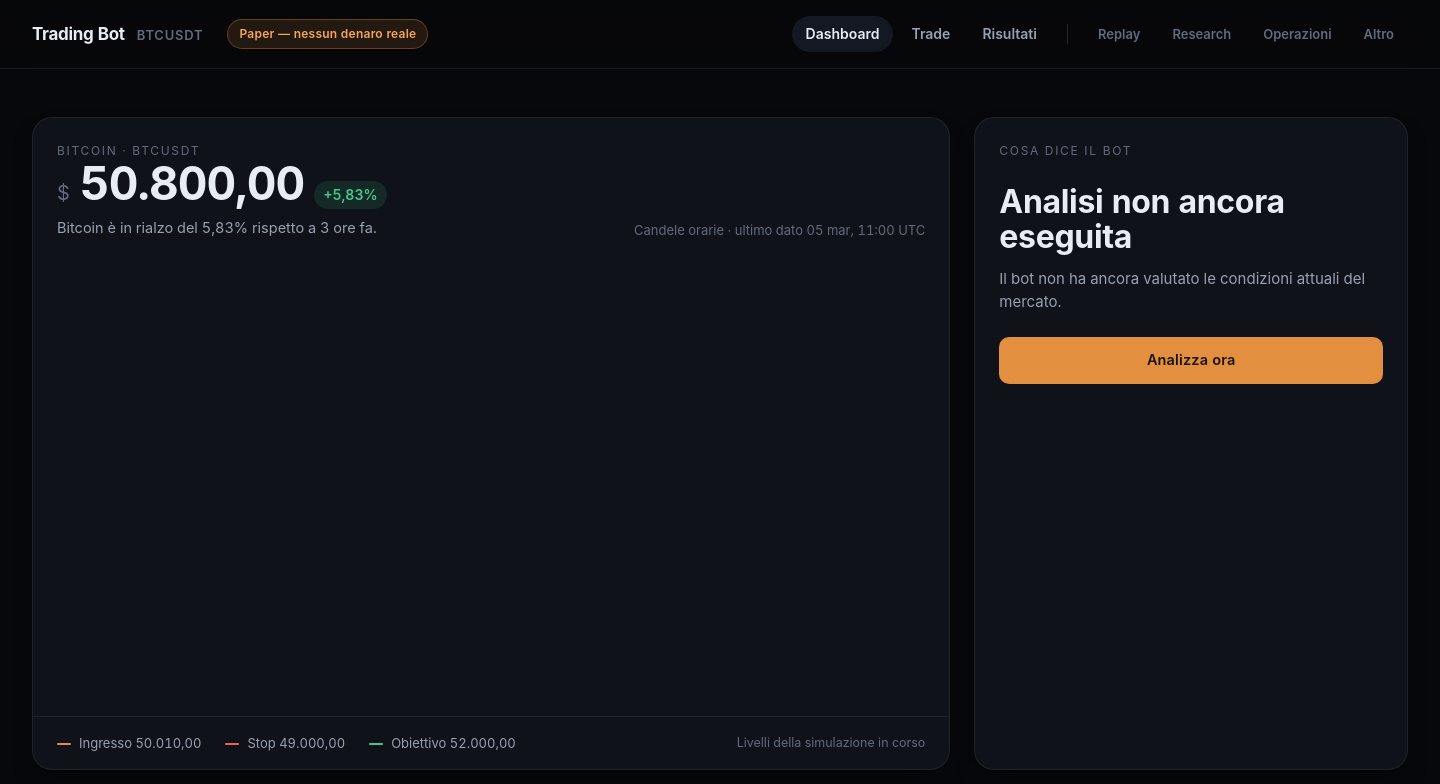
Scenario: simulazione › nasconde la simulazione e spiega il motivo quando una è già in corso
Expected: the text "Analisi non ancora eseguita" is shown, [999,182,1285,256]
Step 1. Click the button "Analizza ora" → {"x": 1191, "y": 360}, box [999,337,1383,384]
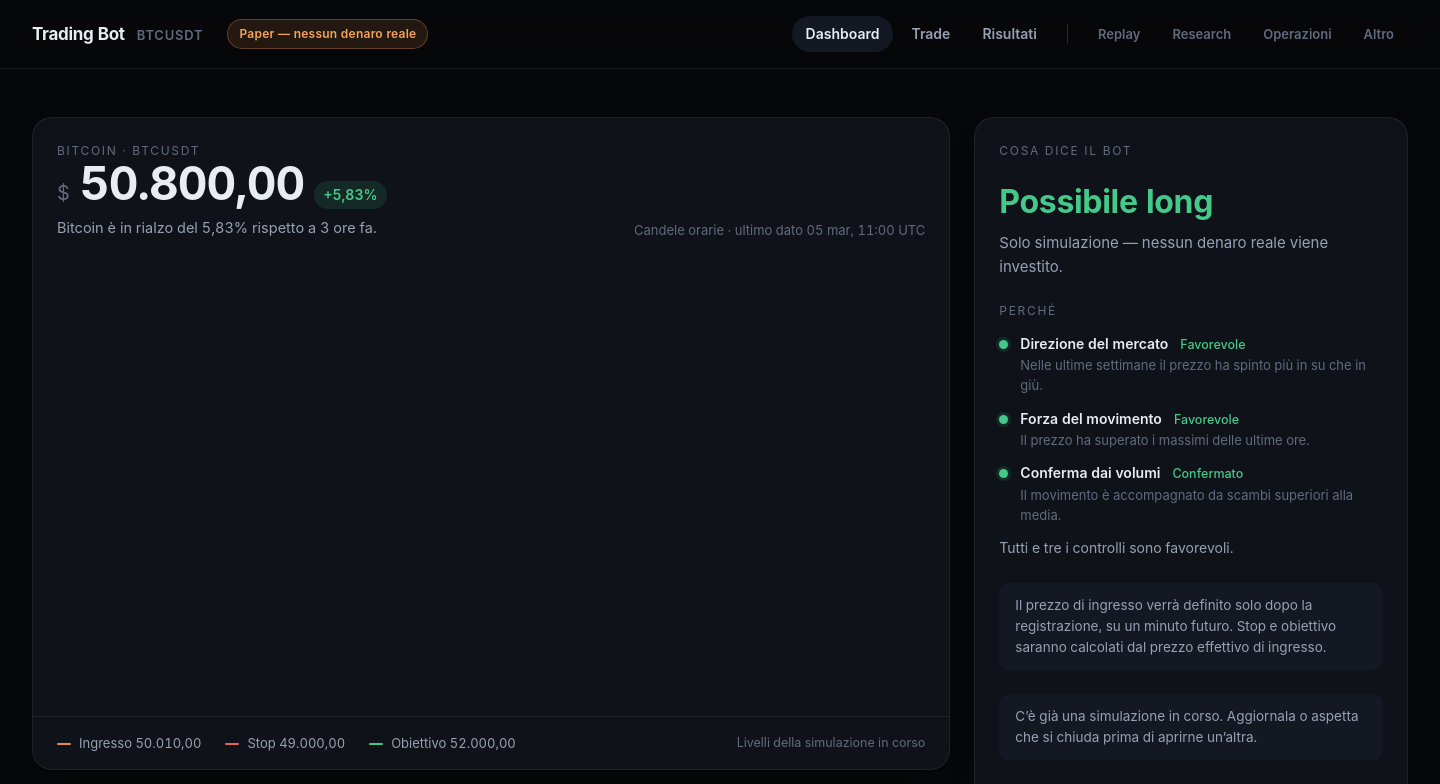
Expected: the text "Possibile long" is shown, [999,182,1213,221]
Expected: the text "C’è già una simulazione in corso" is shown, [1015,708,1358,745]
